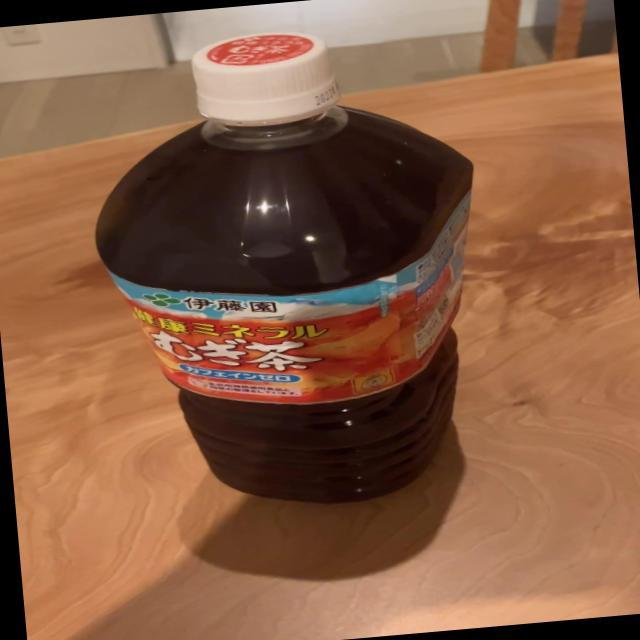good: (76, 14, 506, 526)
